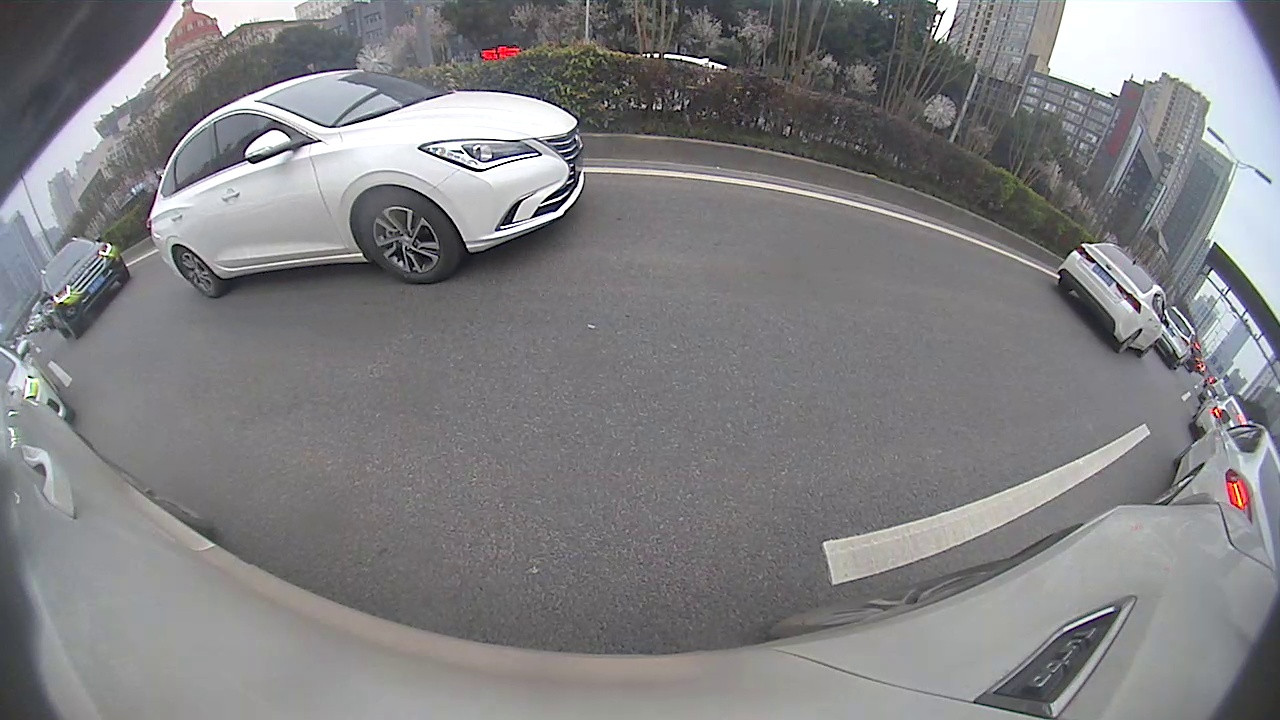car: (145, 68, 588, 300), (1154, 408, 1277, 541), (1054, 240, 1171, 357), (37, 236, 132, 340)
front: (358, 192, 460, 285)
rear: (174, 247, 222, 300), (1116, 329, 1143, 356)
